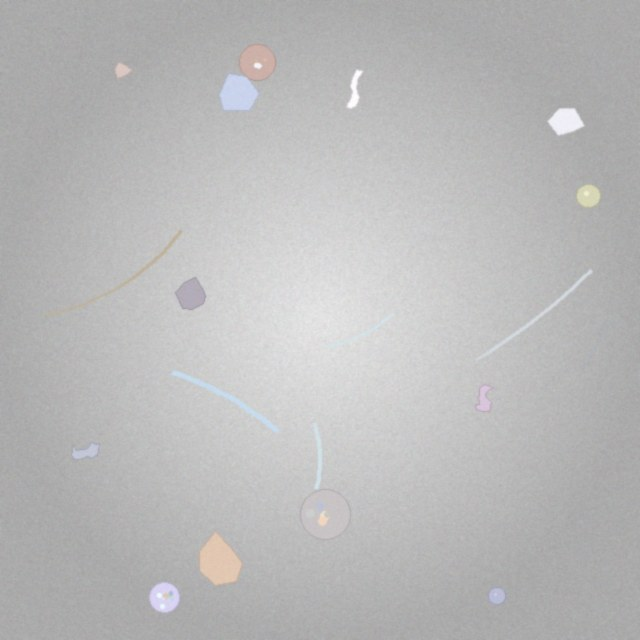fiber: (40, 227, 186, 319), (473, 267, 595, 363), (168, 367, 283, 437), (324, 313, 395, 350), (586, 315, 620, 368), (310, 419, 324, 494)
film: (346, 70, 363, 109), (475, 384, 493, 412), (71, 442, 100, 459)
foam: (300, 490, 350, 539), (239, 45, 276, 81), (150, 583, 179, 612)
fragment: (199, 531, 243, 585), (220, 74, 259, 111), (547, 108, 585, 136), (176, 278, 206, 310), (115, 62, 132, 79)
pellet: (577, 184, 600, 208), (489, 587, 506, 605)
